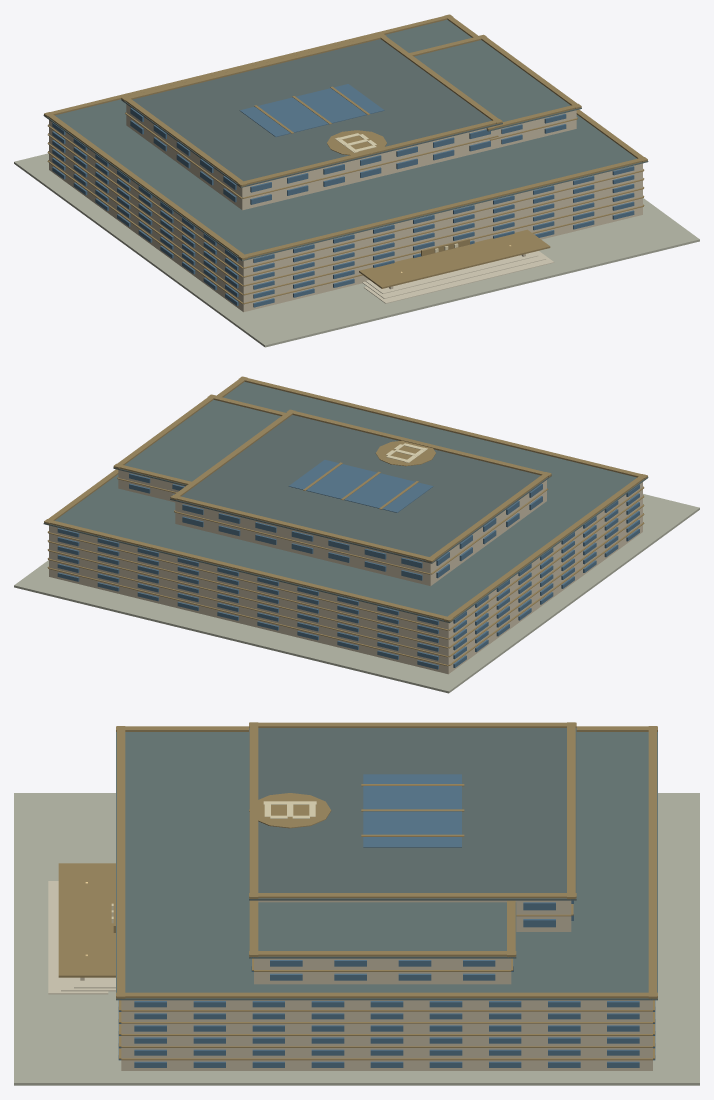
File: bank.glb
3 renders of one model, top to bottom at view 1: azimuth 30°, elevation 25°; view 2: azimuth 150°, elevation 25°; view 3: azimuth 270°, elevation 25°, orthographic. The views are drawn at different scales.
Parts seen in each view (by area): view 1: bank-main, bank-upper, bank-plinth, bank-main-windows, bank-east-bay, bank-entrance, bank-roof-glass, bank-upper-windows, bank-emblem, bank-east-bay-windows; view 2: bank-main, bank-upper, bank-plinth, bank-main-windows, bank-east-bay, bank-roof-glass, bank-upper-windows, bank-emblem; view 3: bank-main, bank-upper, bank-plinth, bank-east-bay, bank-main-windows, bank-entrance, bank-roof-glass, bank-emblem, bank-east-bay-windows, bank-upper-windows.
Part boxes in pixels (<box>): bank-main: <box>43,14,648,312</box>; bank-upper: <box>121,34,502,210</box>; bank-plinth: <box>14,153,699,347</box>; bank-main-windows: <box>52,122,634,307</box>; bank-east-bay: <box>409,34,581,149</box>; bank-entrance: <box>254,86,554,303</box>; bank-roof-glass: <box>239,84,384,136</box>; bank-upper-windows: <box>130,108,490,204</box>; bank-emblem: <box>327,130,469,256</box>; bank-east-bay-windows: <box>501,113,566,144</box>; bank-main: <box>43,376,648,674</box>; bank-upper: <box>170,409,551,586</box>; bank-plinth: <box>14,494,699,693</box>; bank-main-windows: <box>57,484,639,669</box>; bank-east-bay: <box>113,394,285,502</box>; bank-roof-glass: <box>288,460,433,512</box>; bank-upper-windows: <box>182,484,542,580</box>; bank-emblem: <box>375,440,435,466</box>; bank-main: <box>116,726,657,1070</box>; bank-upper: <box>249,722,576,931</box>; bank-plinth: <box>14,793,699,1085</box>; bank-east-bay: <box>249,900,516,984</box>; bank-main-windows: <box>118,1000,655,1067</box>; bank-entrance: <box>48,784,464,994</box>; bank-roof-glass: <box>363,774,461,847</box>; bank-emblem: <box>111,793,331,932</box>; bank-east-bay-windows: <box>251,958,513,980</box>; bank-upper-windows: <box>523,900,573,927</box>.
Size of the model in its own units: 160 by 29.59 by 160.
